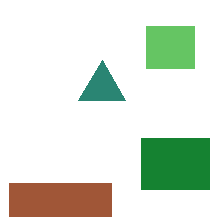rectangle: (141, 138, 209, 189), (9, 183, 111, 216), (146, 26, 194, 68)
triangle: (78, 60, 125, 100)
